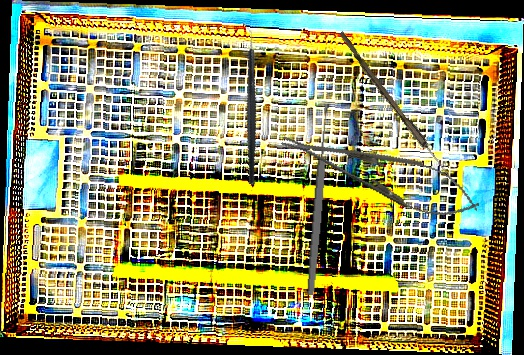Chopper: (189, 21, 307, 186)
Needle Holder: (274, 115, 487, 231)
Surgical Spoon: (335, 31, 461, 188), (305, 103, 333, 296)
